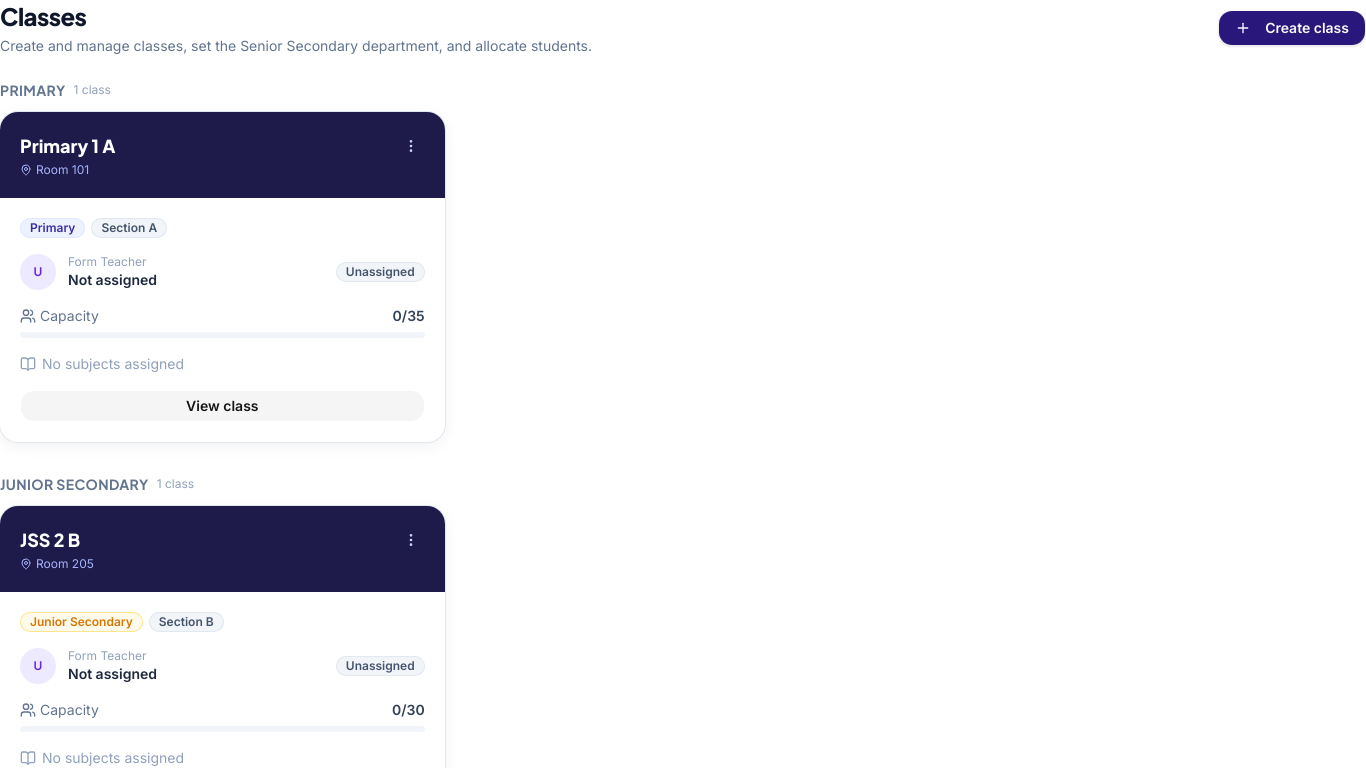
it: ClassesView › create class modal › opens the modal dialog when the header "Create class" button is clicked
# Click the header-level "Create class" button (first match)
Click the button "Create class" at (1292, 28), box [1218,10,1365,46]
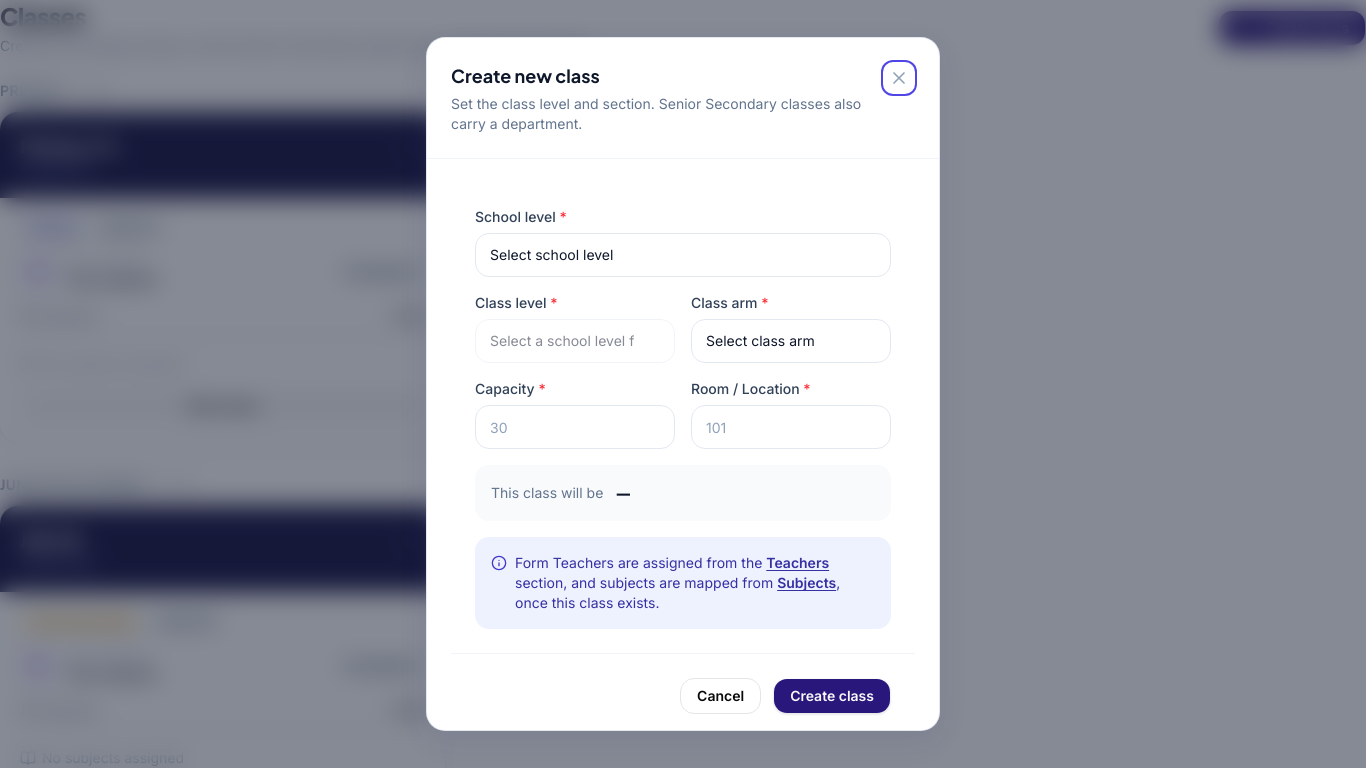
Now the dialog is shown, box [427,38,939,730]
